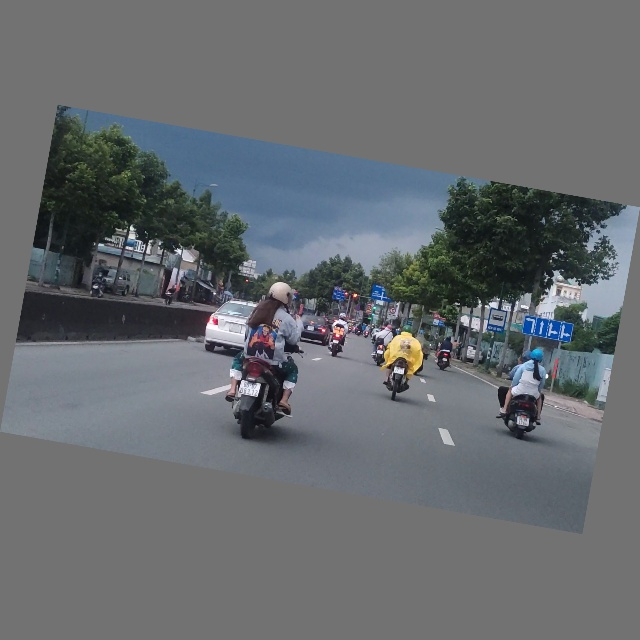I.434a: (487, 308, 508, 334)
P.137: (389, 308, 397, 315)
